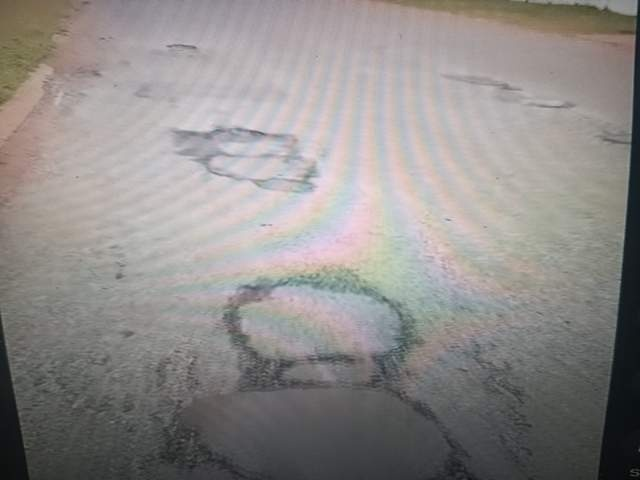pothole: (107, 403, 322, 480)
